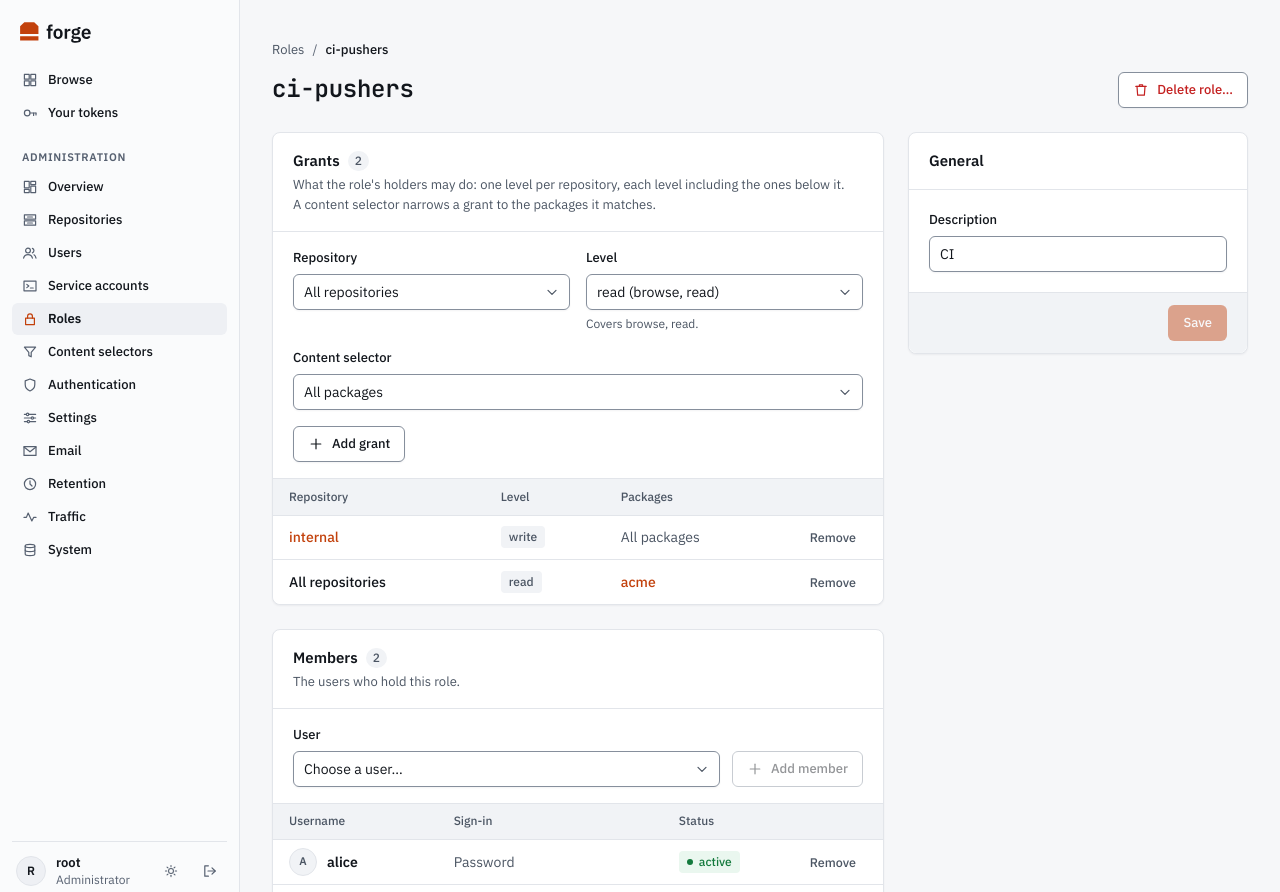
Test case: admin roles › adds a grant of one level, labelled with the Nexus actions
The width and height of the screenshot is (1280, 892).
Expected: the dropdown labelled "Level" shows "read (browse, read)", [586,274,863,310]
Expected: the text "Covers browse, read." is shown, [586,316,699,331]
Select "internal" in the dropdown labelled "Repository": (432, 292) [293,274,570,310]
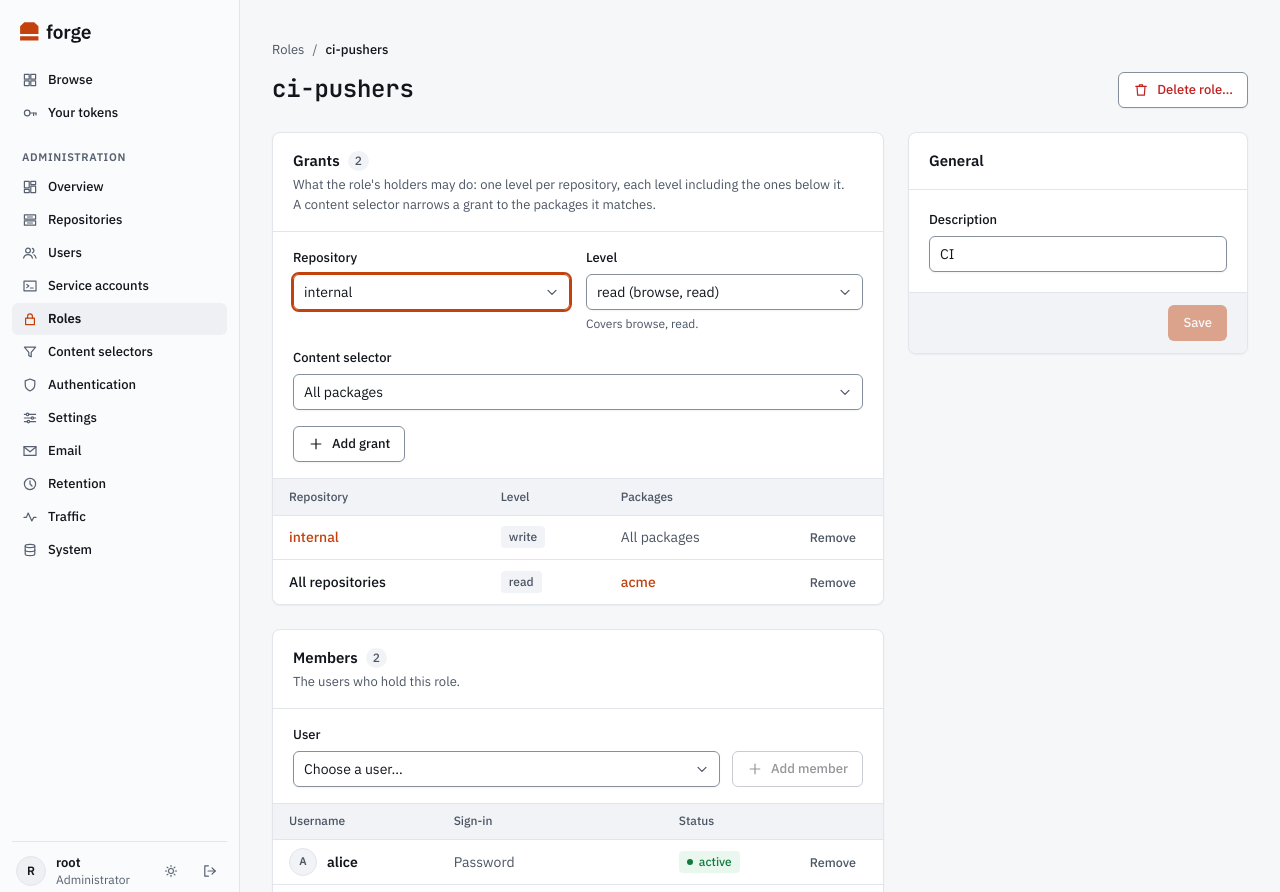
Select "delete (browse, read, add, edit, delete)" in the dropdown labelled "Level": (724, 292) [586,274,863,310]
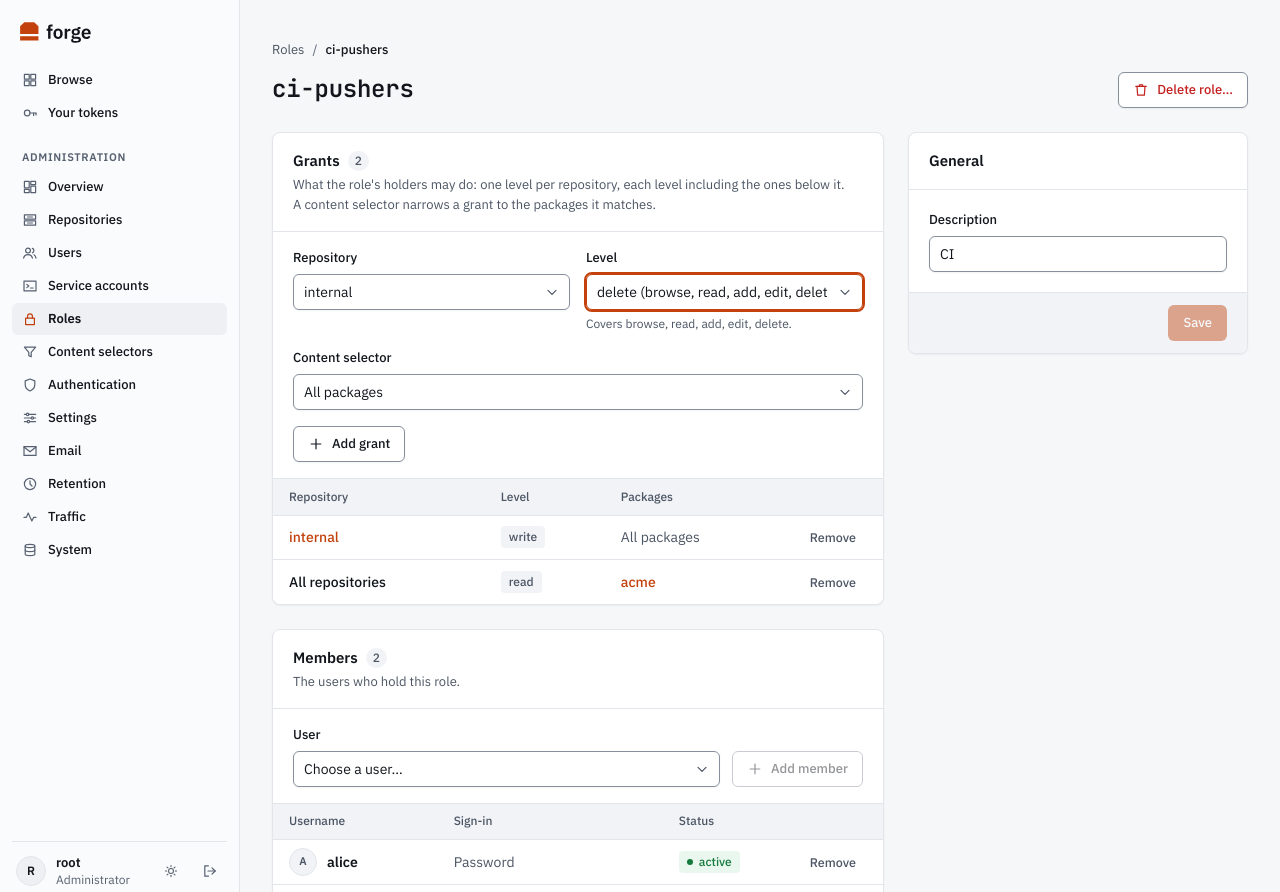
Expected: the text "Covers browse, read, add, edit, delete." is shown, [586,316,792,331]
Select "acme" in the dropdown labelled "Content selector": (578, 392) [293,374,863,410]
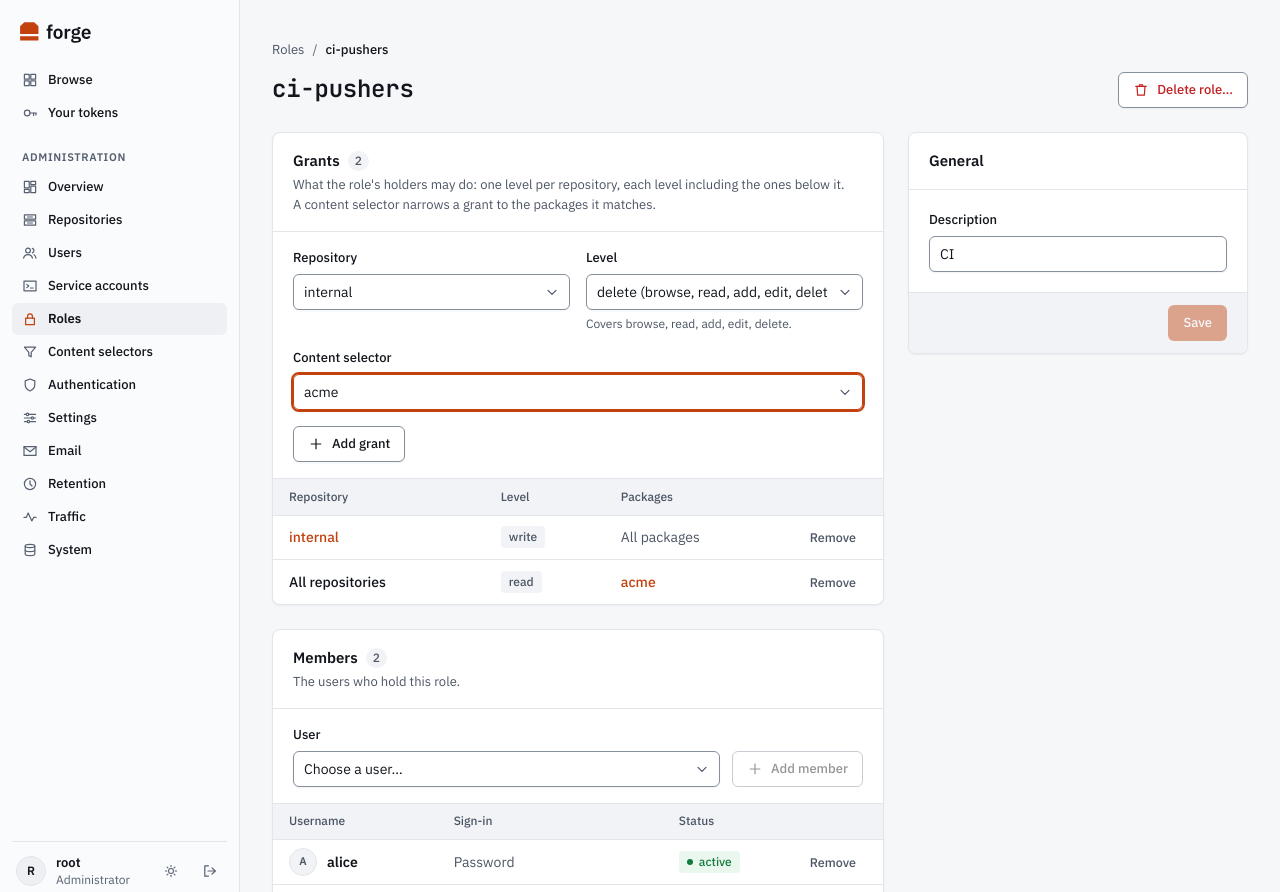
Click the button "Add grant": (349, 444) [293,426,405,462]
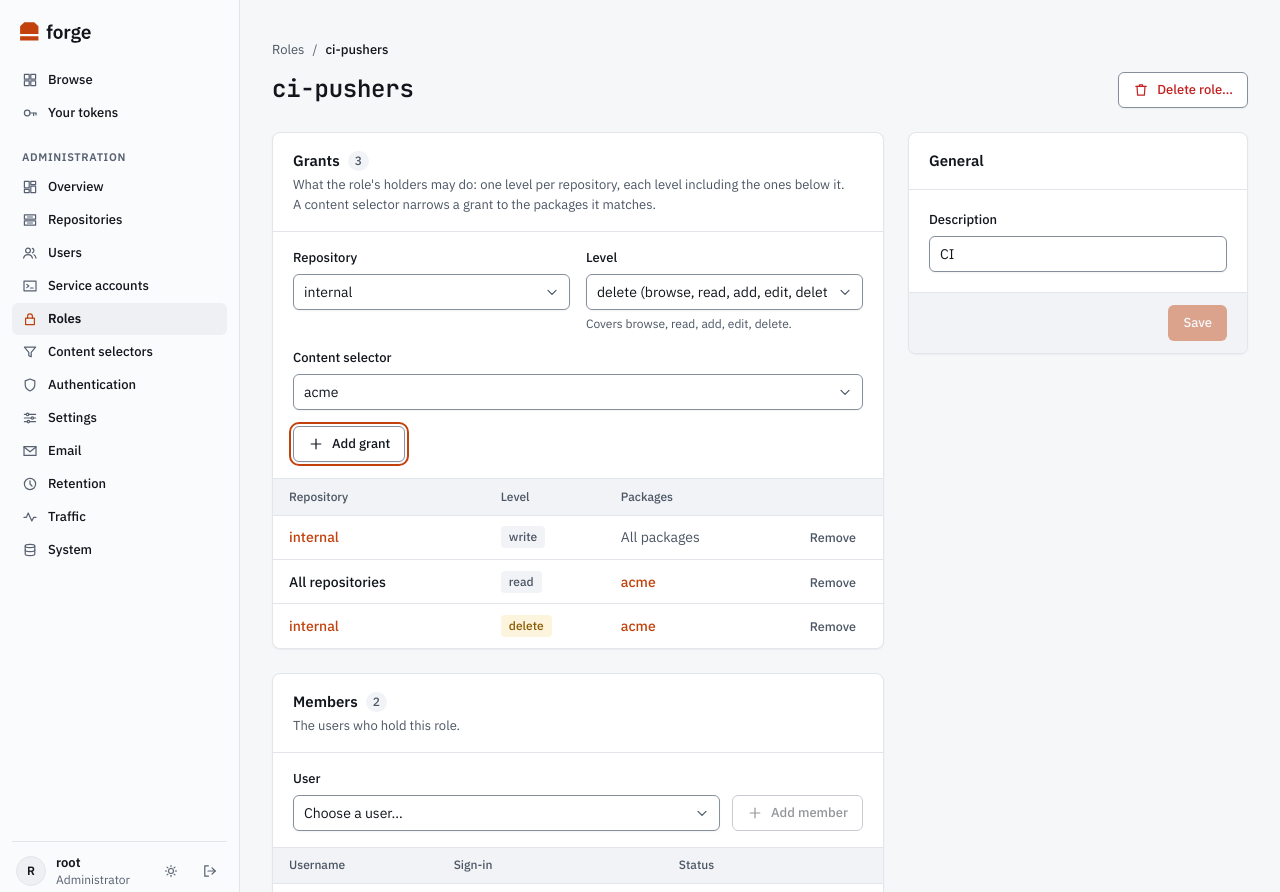
Expected: the text "delete" is shown, [501,615,552,637]
Expected: the 2nd link "internal" is shown, [289,617,339,635]
Expected: the 2nd link "acme" is shown, [621,617,656,635]
